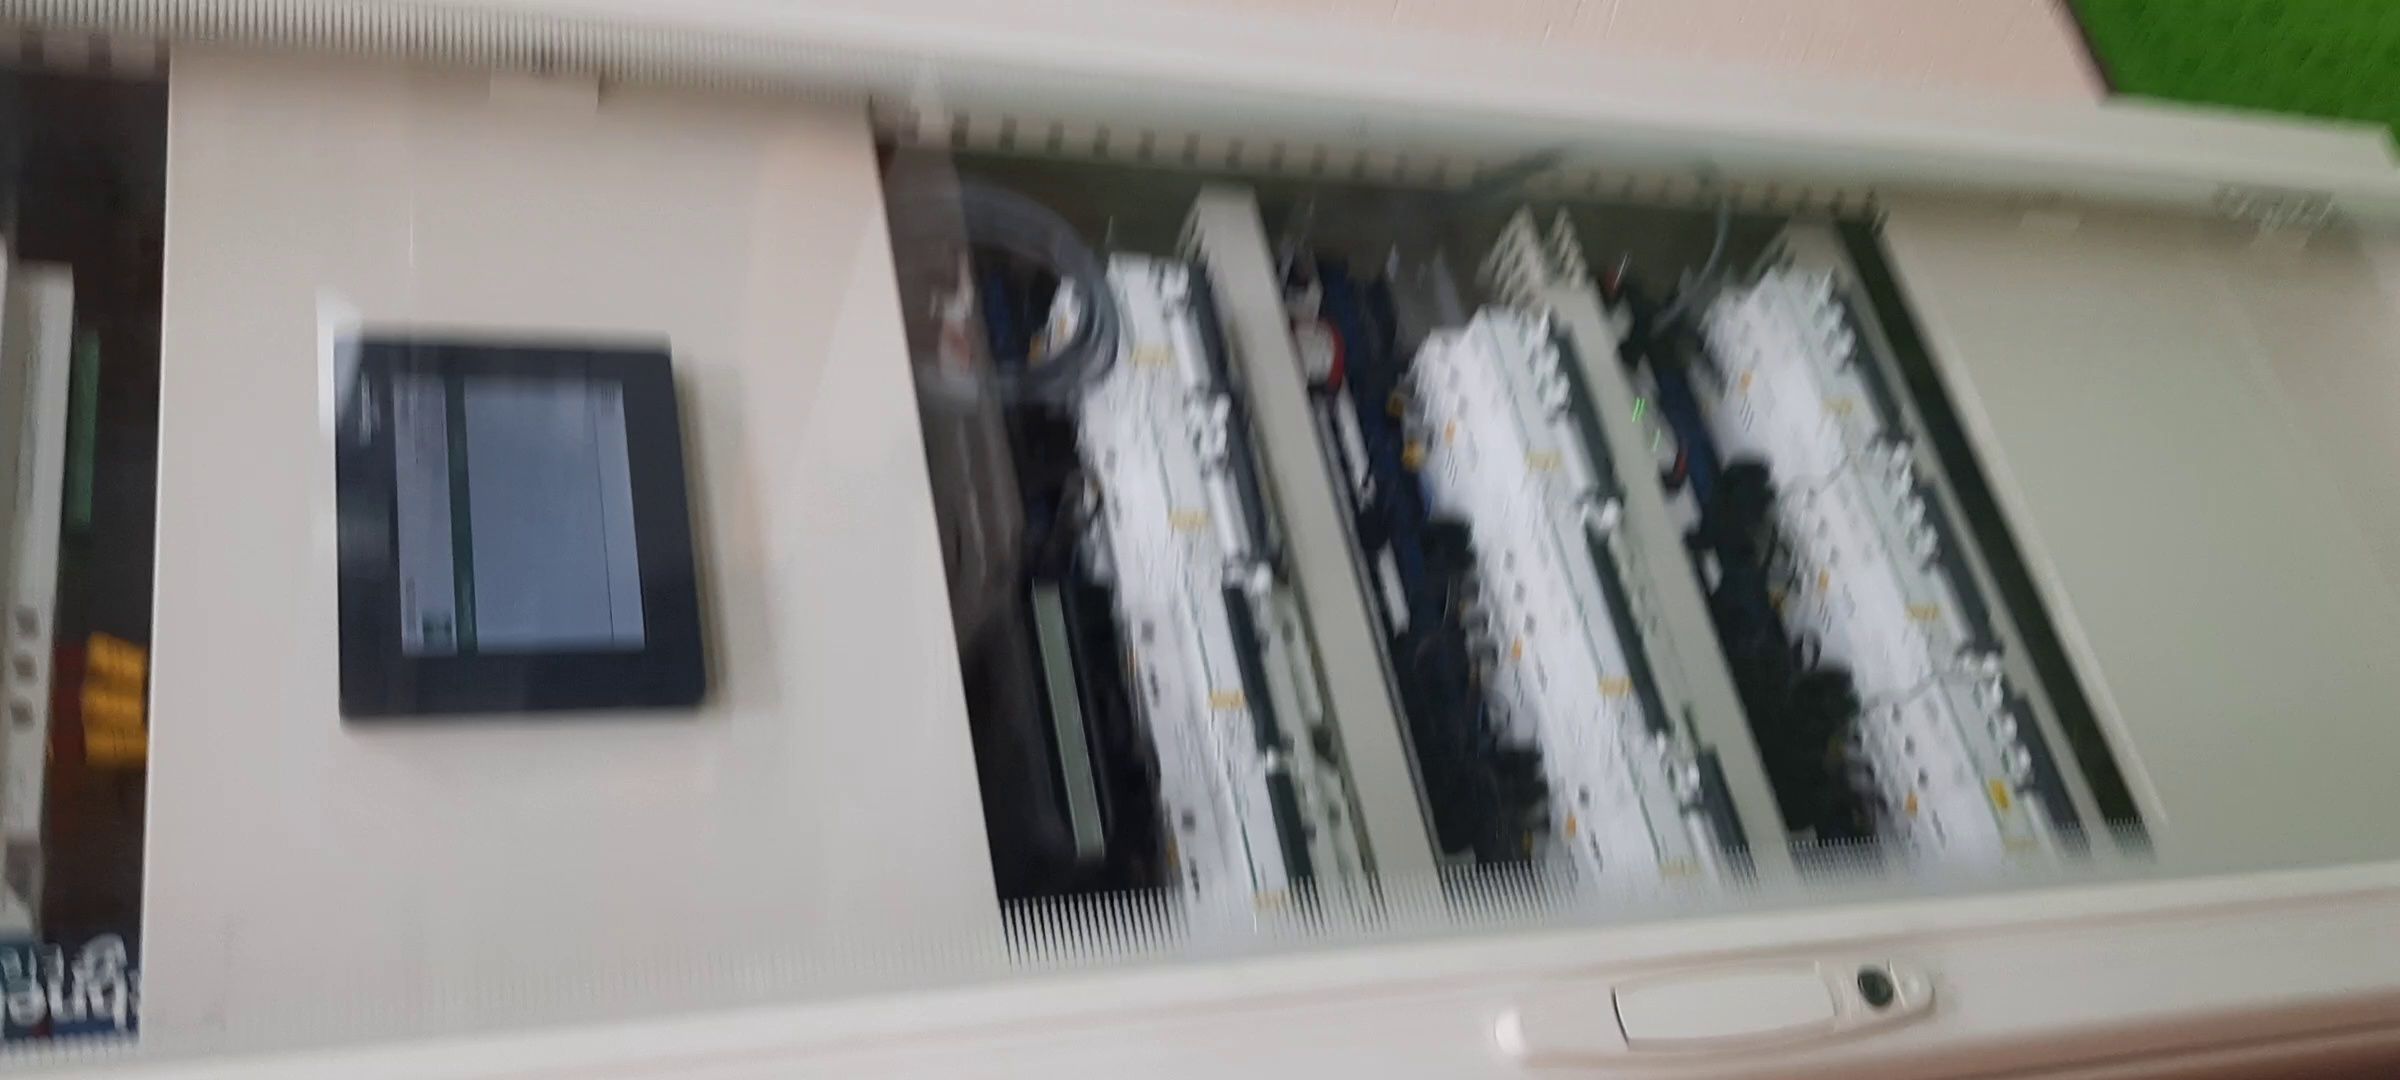smart_stand: (5, 90, 2400, 1075)
